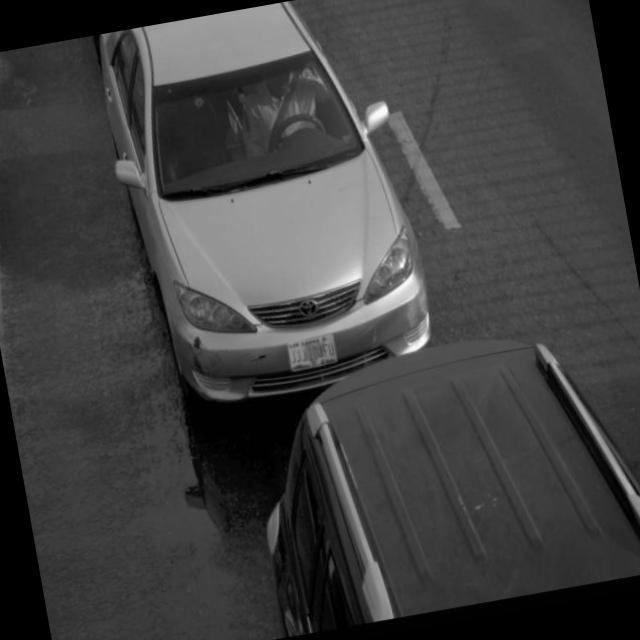person_with_seatbelt: (224, 43, 350, 180)
